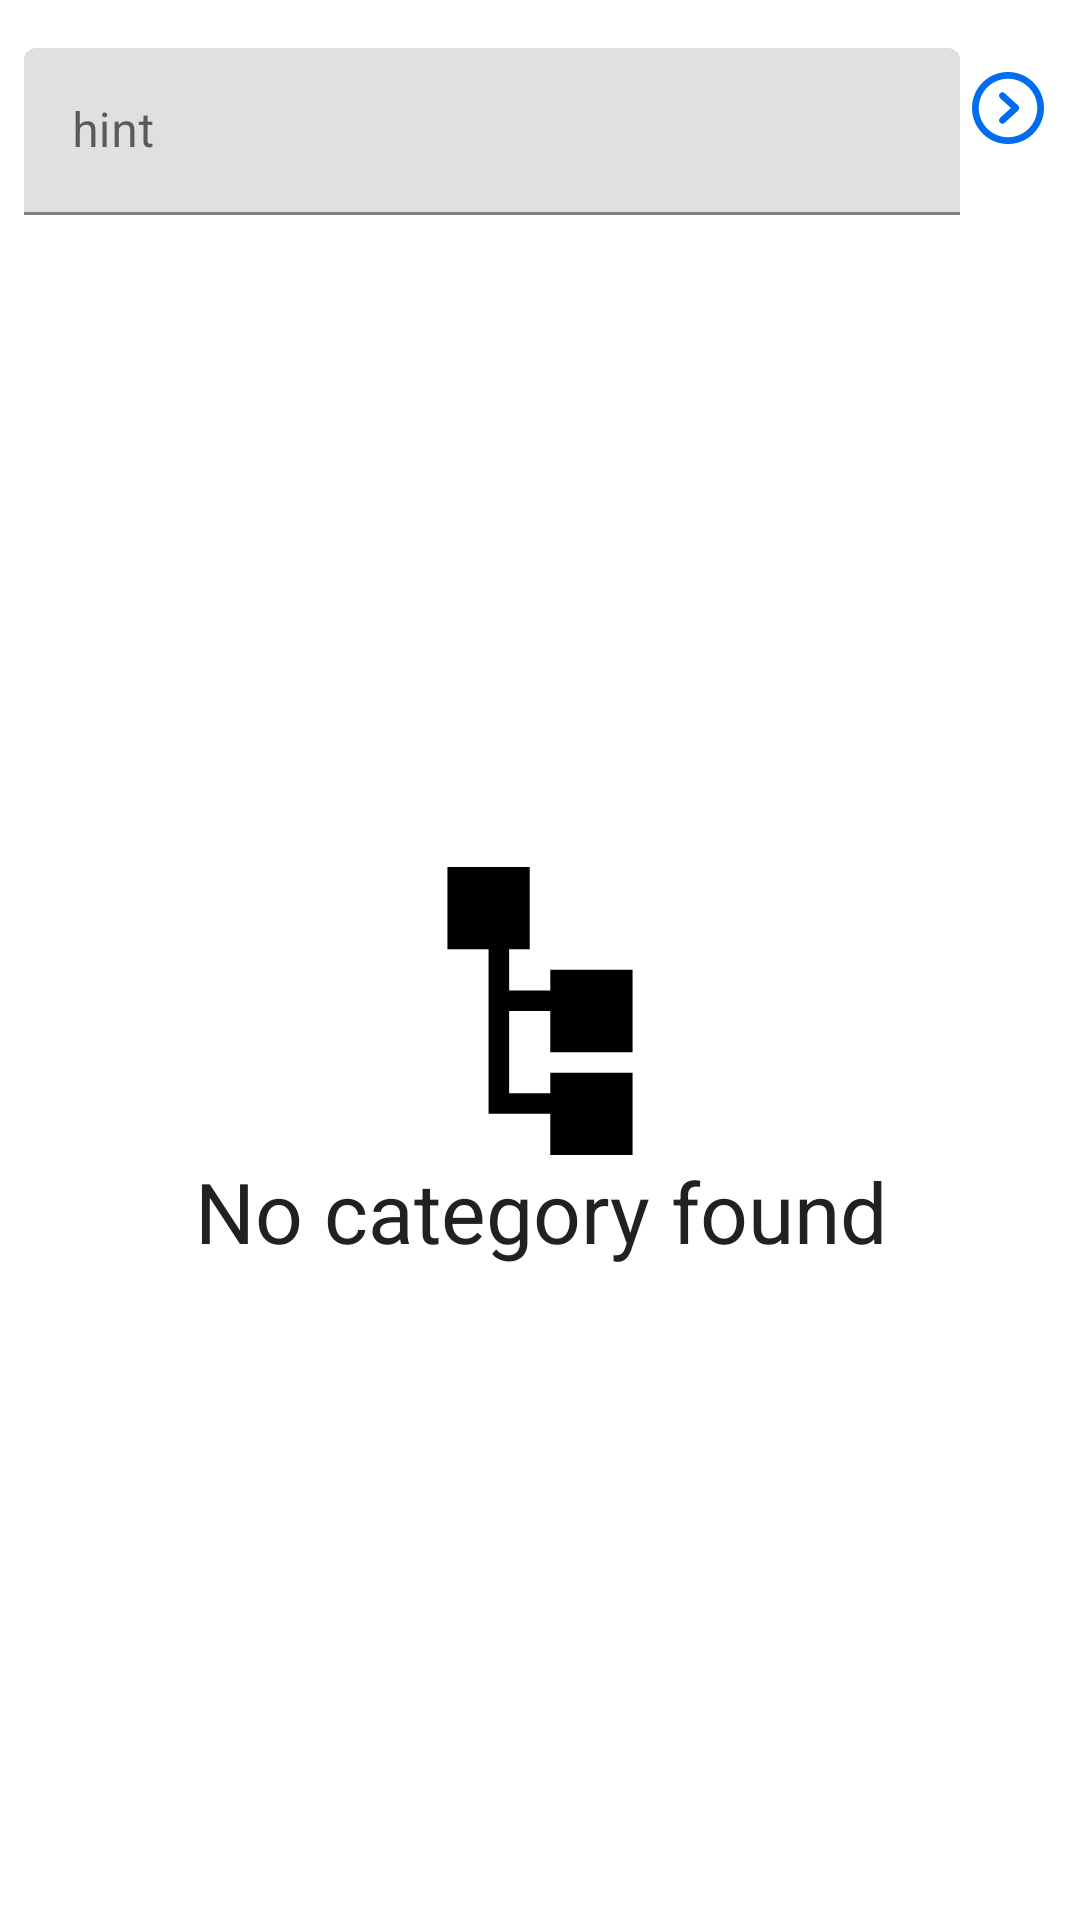

Locate icon controls on the screen. Image size 1080×1920, boxes as (x1, y1, x2, y2).
right arrow circular: (972, 72, 1044, 144)
suvcategory: (447, 867, 633, 1155)
